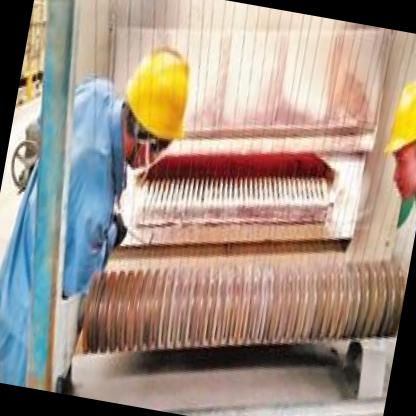bee: (112, 28, 212, 177), (369, 61, 416, 208)
